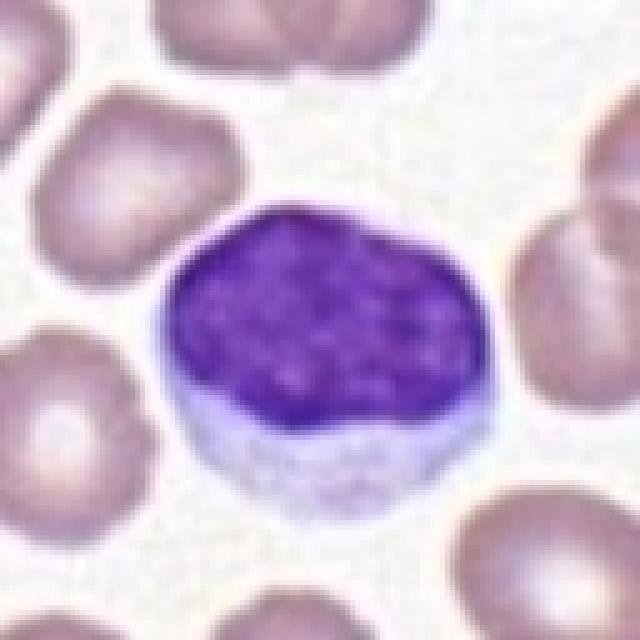lympho: (154, 196, 501, 523)
